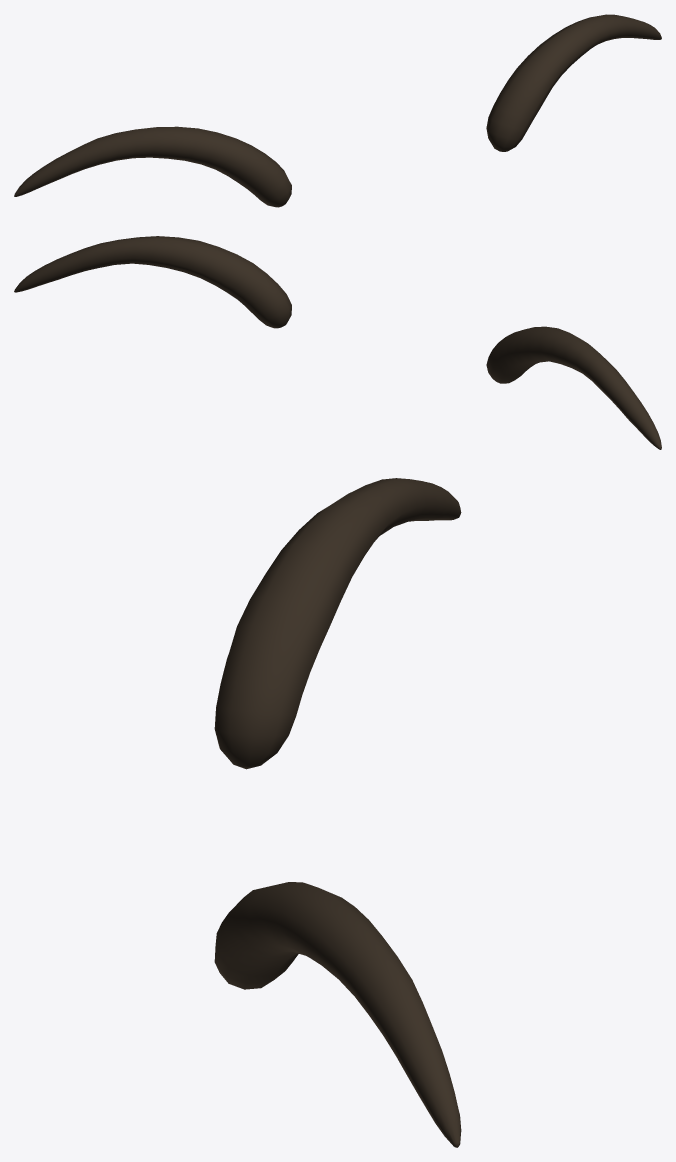
File: rounded.fbx
The picture shows the model from 3 angles, top to bottom: view 1: azimuth 30°, elevation 25°; view 2: azimuth 150°, elevation 25°; view 3: azimuth 270°, elevation 25°; orthographic projection. The views are drawn at different scales.
Visible parts, largest first — view 1: Group1, rounded1:Group33872; view 2: rounded1:Group33872, Group1; view 3: Group1, rounded1:Group33872.
Boxes of the visible parts, x1,y1,x2,y2 form: Group1: [14, 126, 291, 207]; rounded1:Group33872: [486, 14, 661, 151]; rounded1:Group33872: [14, 236, 291, 328]; Group1: [486, 326, 661, 449]; Group1: [214, 478, 461, 769]; rounded1:Group33872: [214, 882, 461, 1147].
Size of the model in its own units: 0.5881 by 0.0724 by 0.097.
